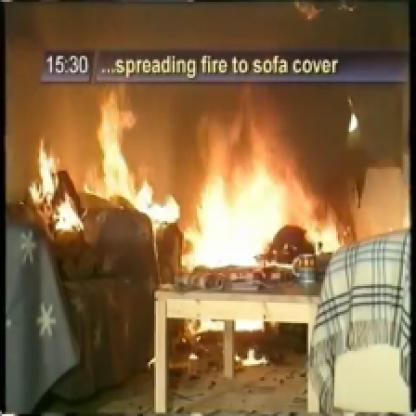fire: (172, 99, 355, 298), (9, 87, 187, 257)
